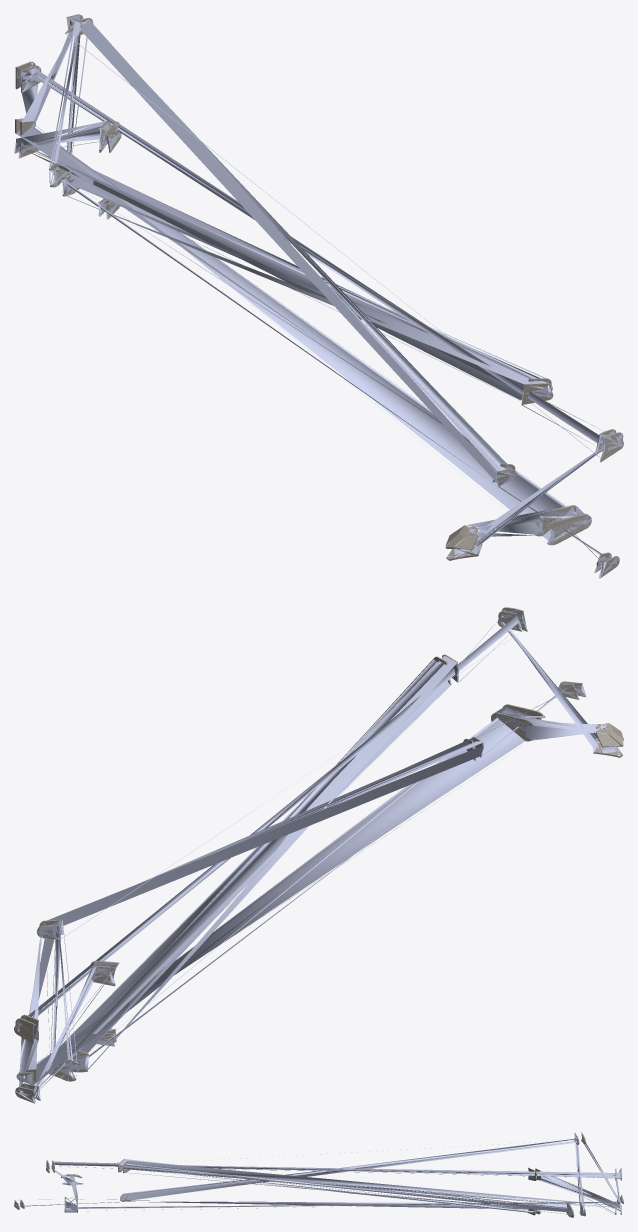
File: UA_26_Suspension_Assembly__UA_26_Suspension_Tabs_1.dae
The picture shows the model from 3 angles, top to bottom: view 1: azimuth 30°, elevation 25°; view 2: azimuth 150°, elevation 25°; view 3: azimuth 270°, elevation 25°; orthographic projection. The views are drawn at different scales.
Parts seen in each view (by area): view 1: node1, node0; view 2: node1, node0; view 3: node1, node0.
Boxes of the visible parts, x1,y1,x2,y2 form: node1: [14, 15, 623, 578]; node0: [15, 14, 623, 577]; node1: [14, 607, 623, 1103]; node0: [14, 607, 623, 1103]; node1: [14, 1132, 623, 1217]; node0: [14, 1132, 623, 1217].
Size of the model in its own units: 0.2624 by 0.2672 by 1.73.
